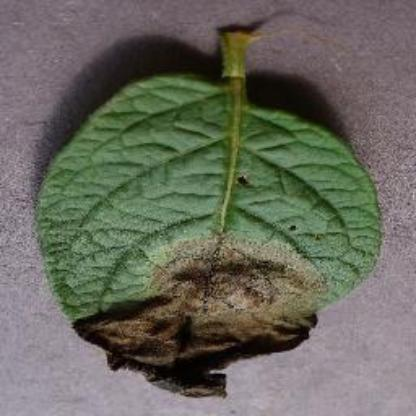Late-Blight: (27, 45, 389, 406)
